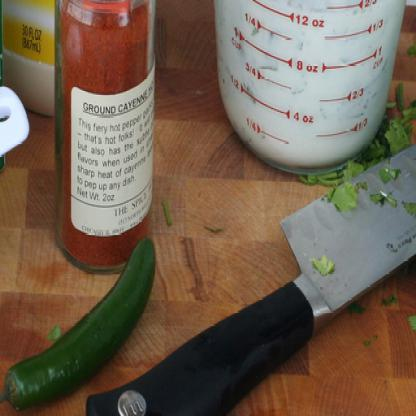knife: (73, 107, 416, 414)
